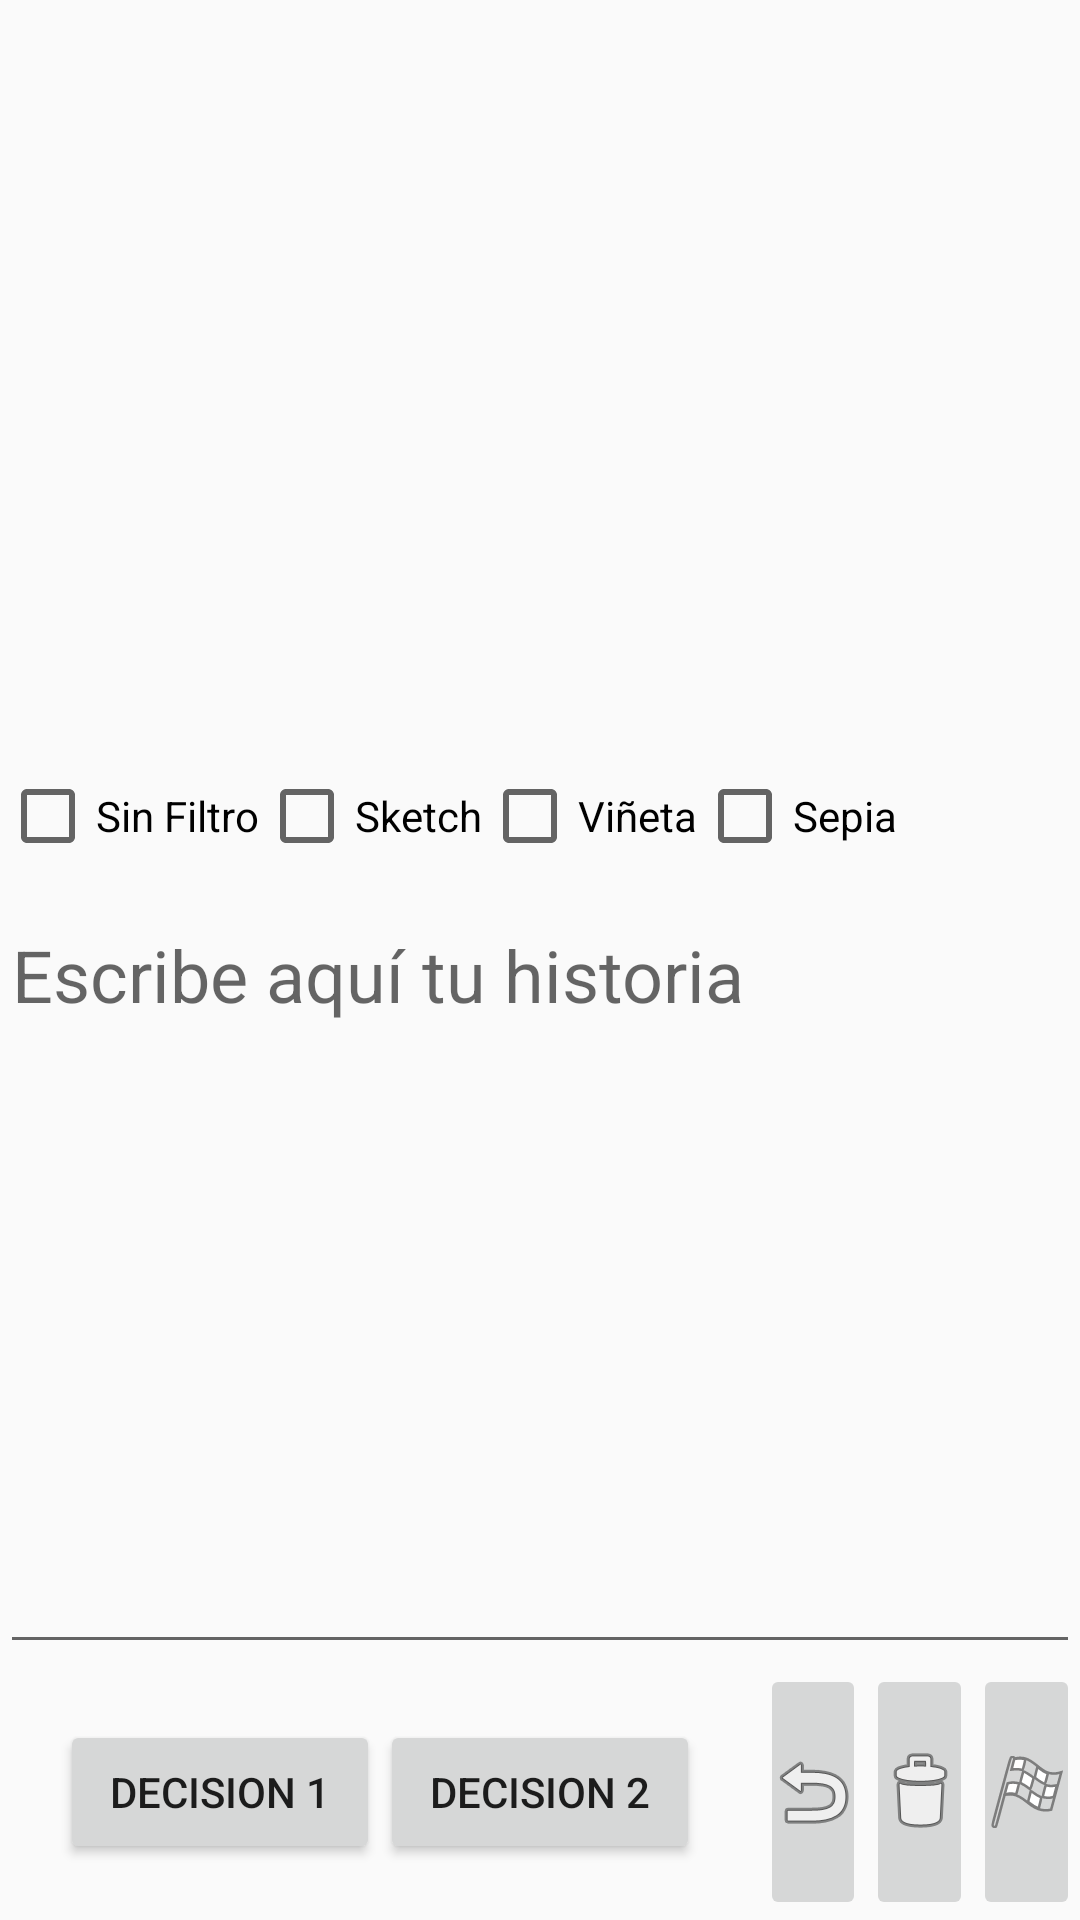

Point at icon controls on the screen. Image size 1080×1920, points as [x,y].
bandera: [1026,1792]
delete: [919,1792]
revert: [813,1792]
